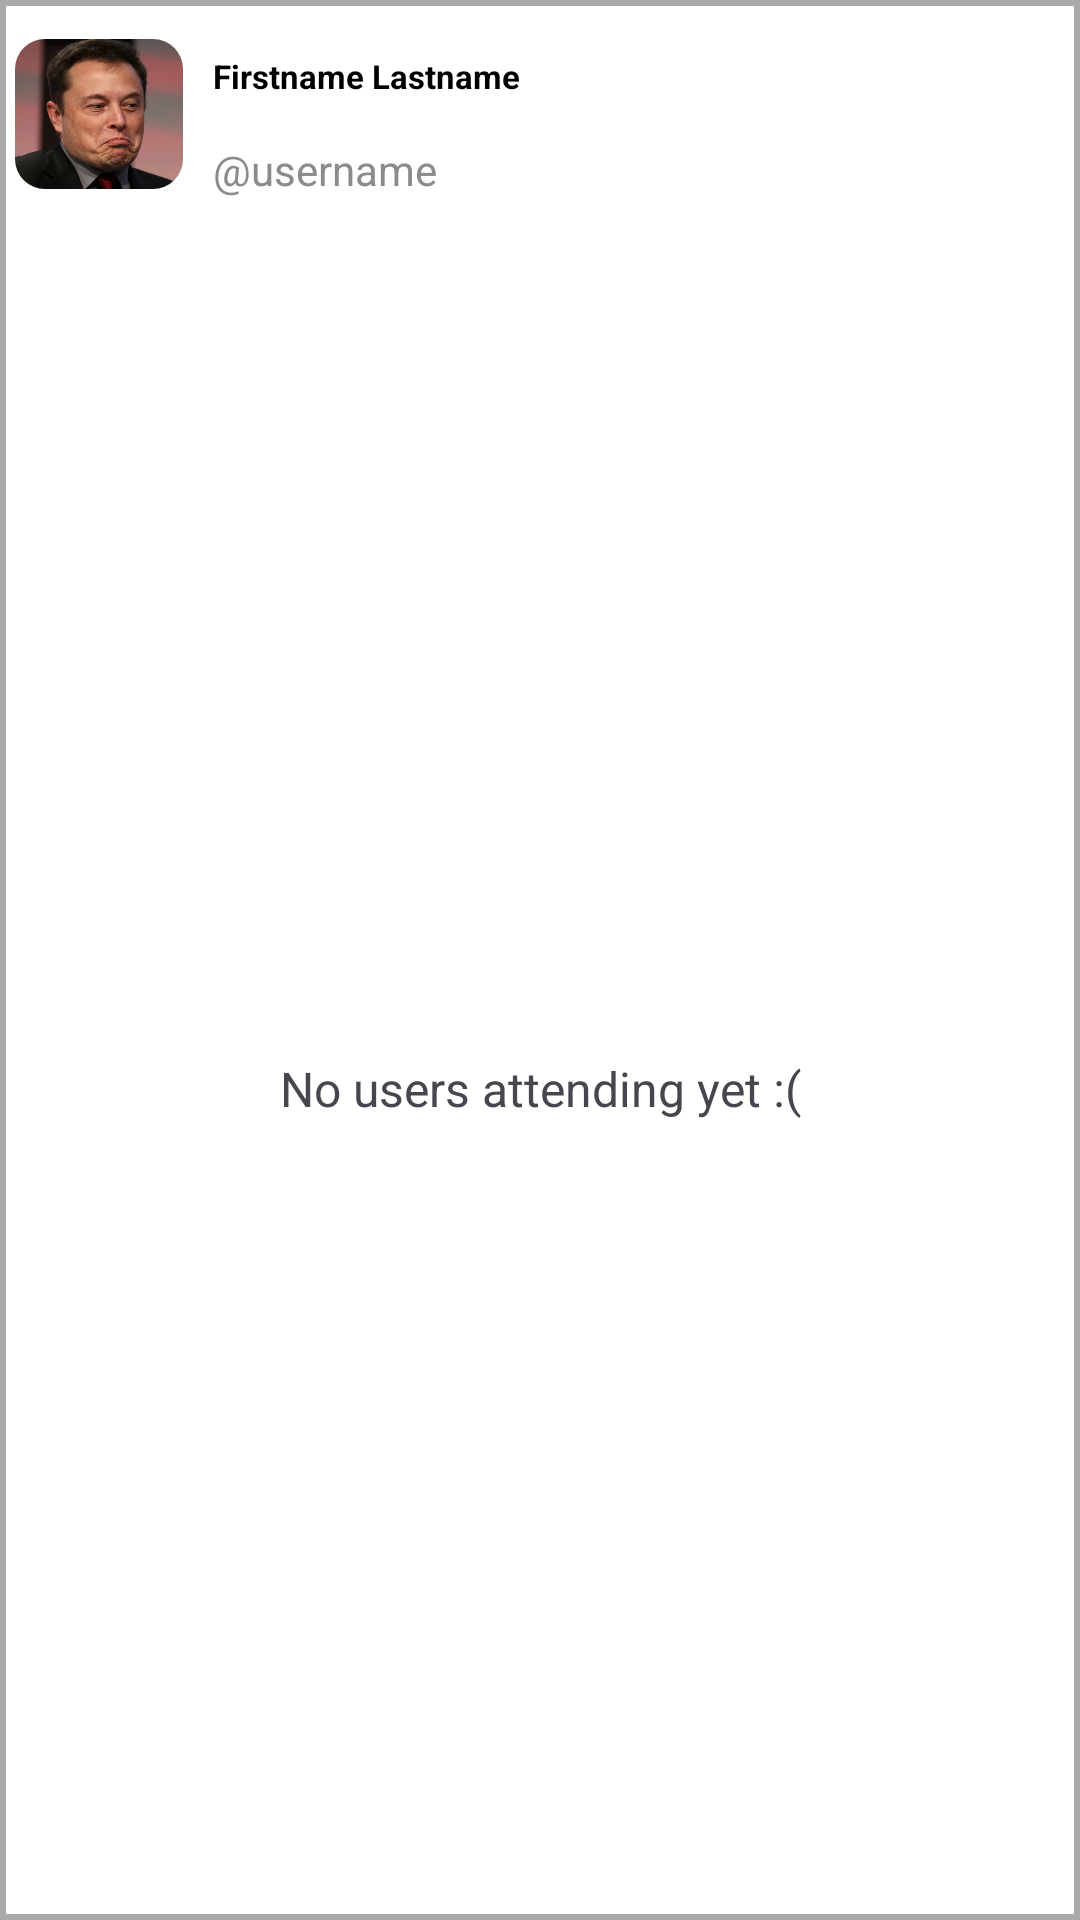

Locate icon controls on the screen. Image size 1080 × 1920, boxes as (x1, y1, x2, y2).
user profile: (15, 39, 183, 189)
